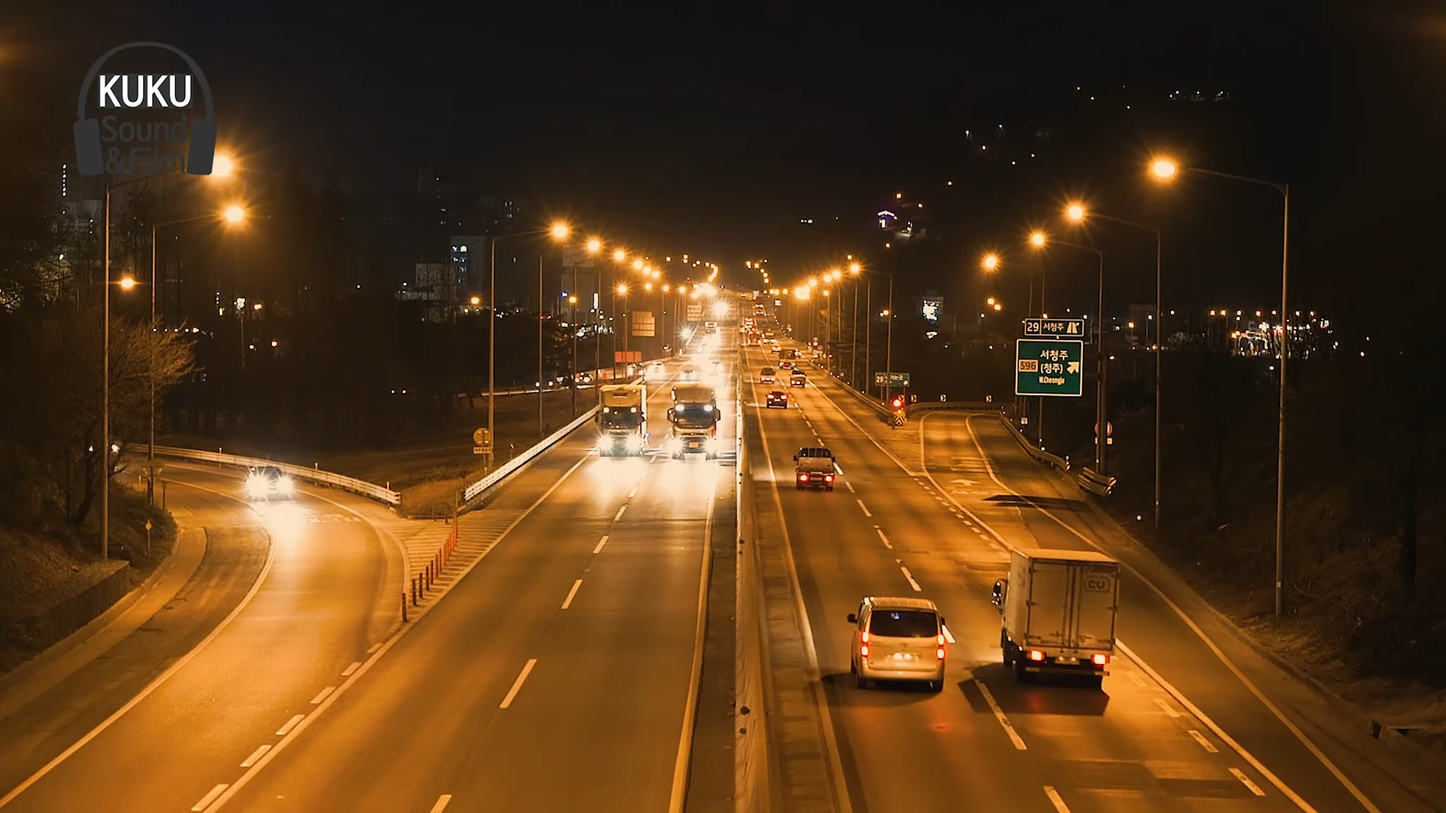car: (854, 589, 953, 694)
truck: (1001, 542, 1123, 696), (590, 385, 653, 460), (664, 385, 722, 457), (789, 447, 838, 488)
